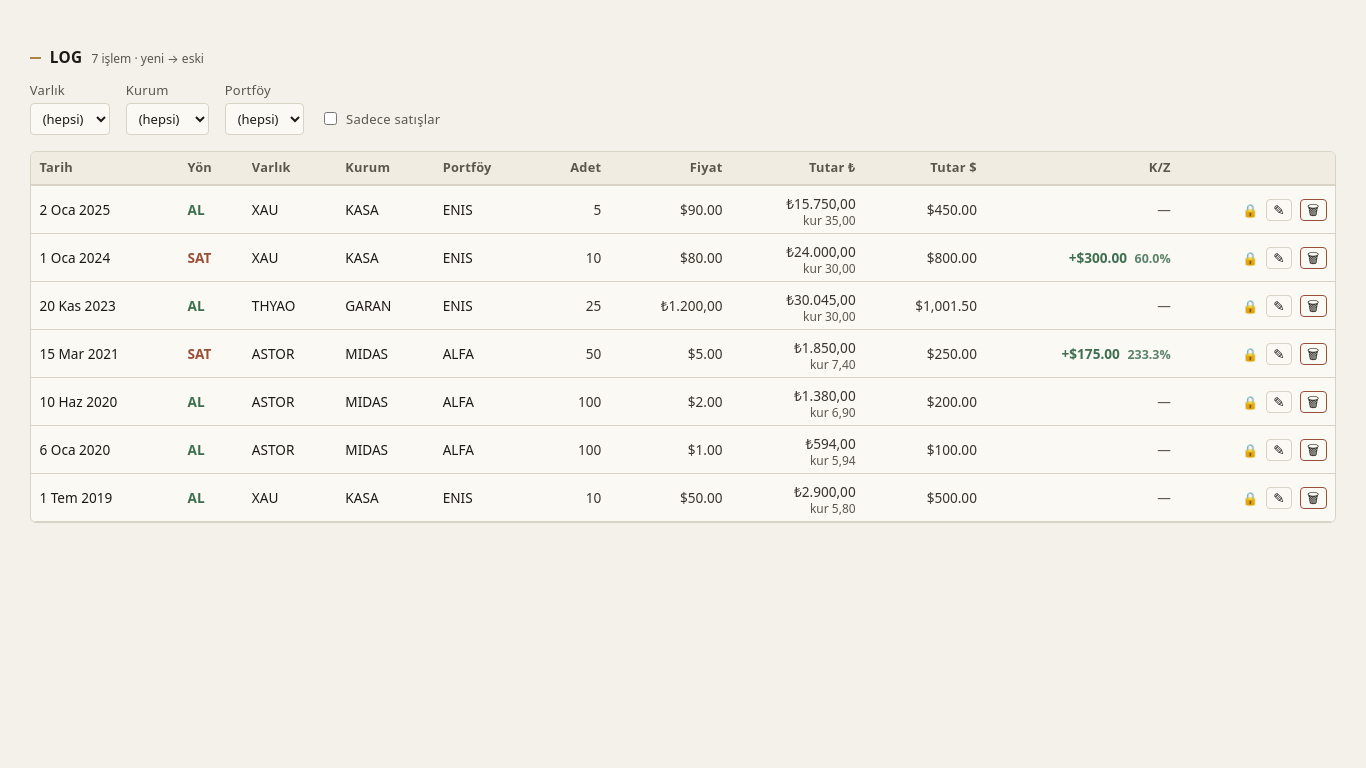
Test: Log › editing a migration row shows the divergence warning
The image size is (1366, 768).
Click the button named "Düzenle": click(1279, 210) [1266,199,1292,221]
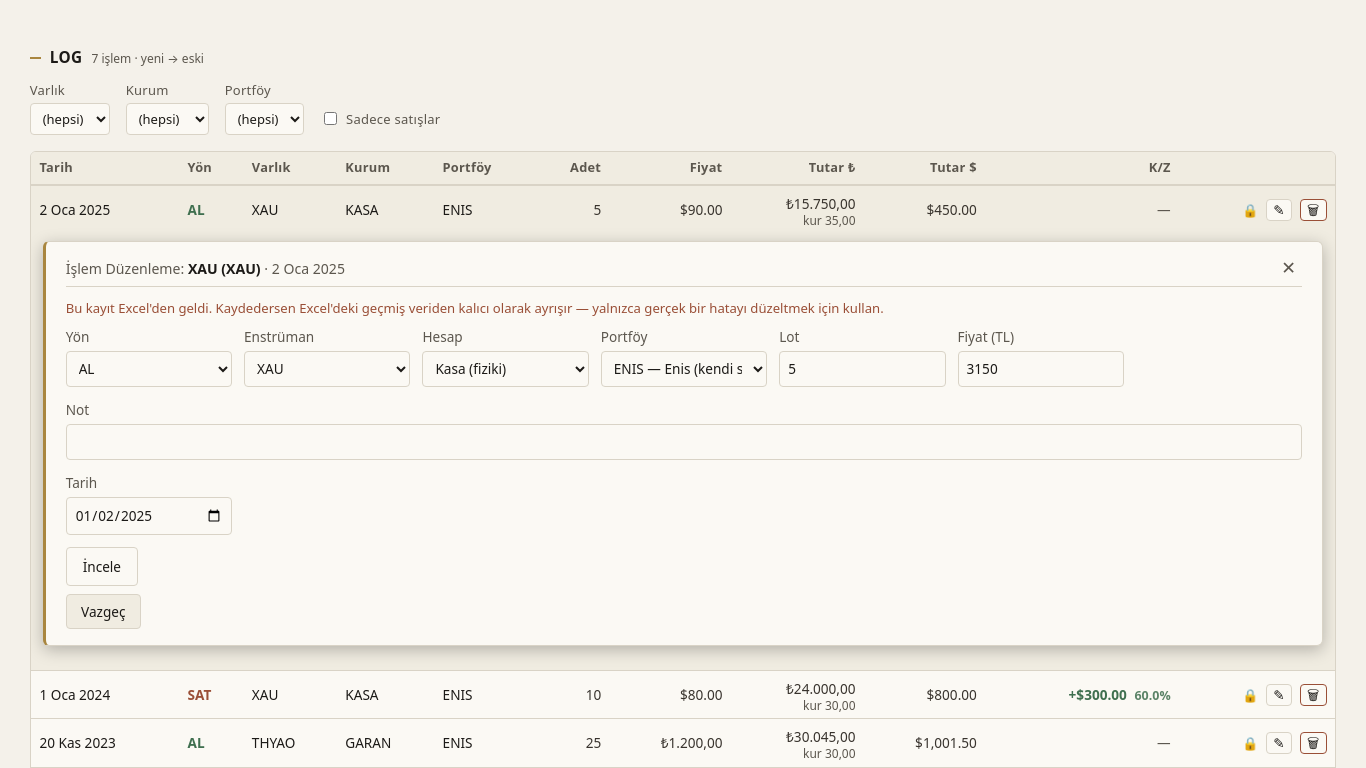
Expected: the text "Excel'deki geçmiş veriden kalıcı olarak ayrışır" is shown, [66,300,884,318]
